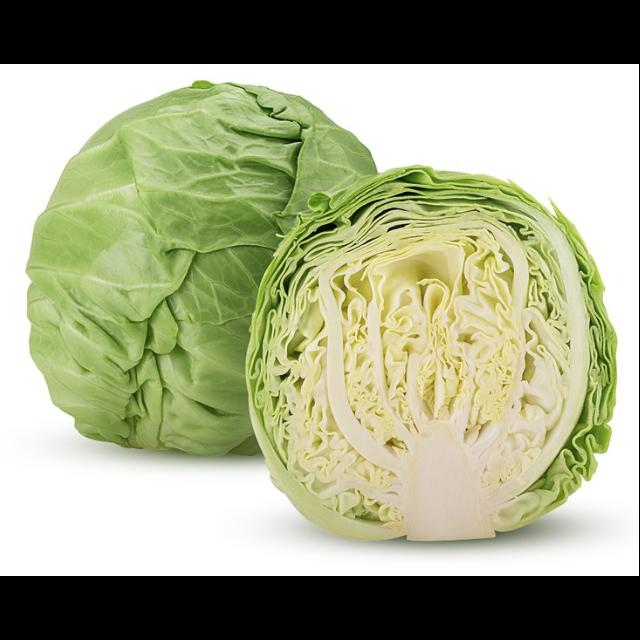cabbage: (240, 165, 620, 544), (24, 80, 380, 459)
